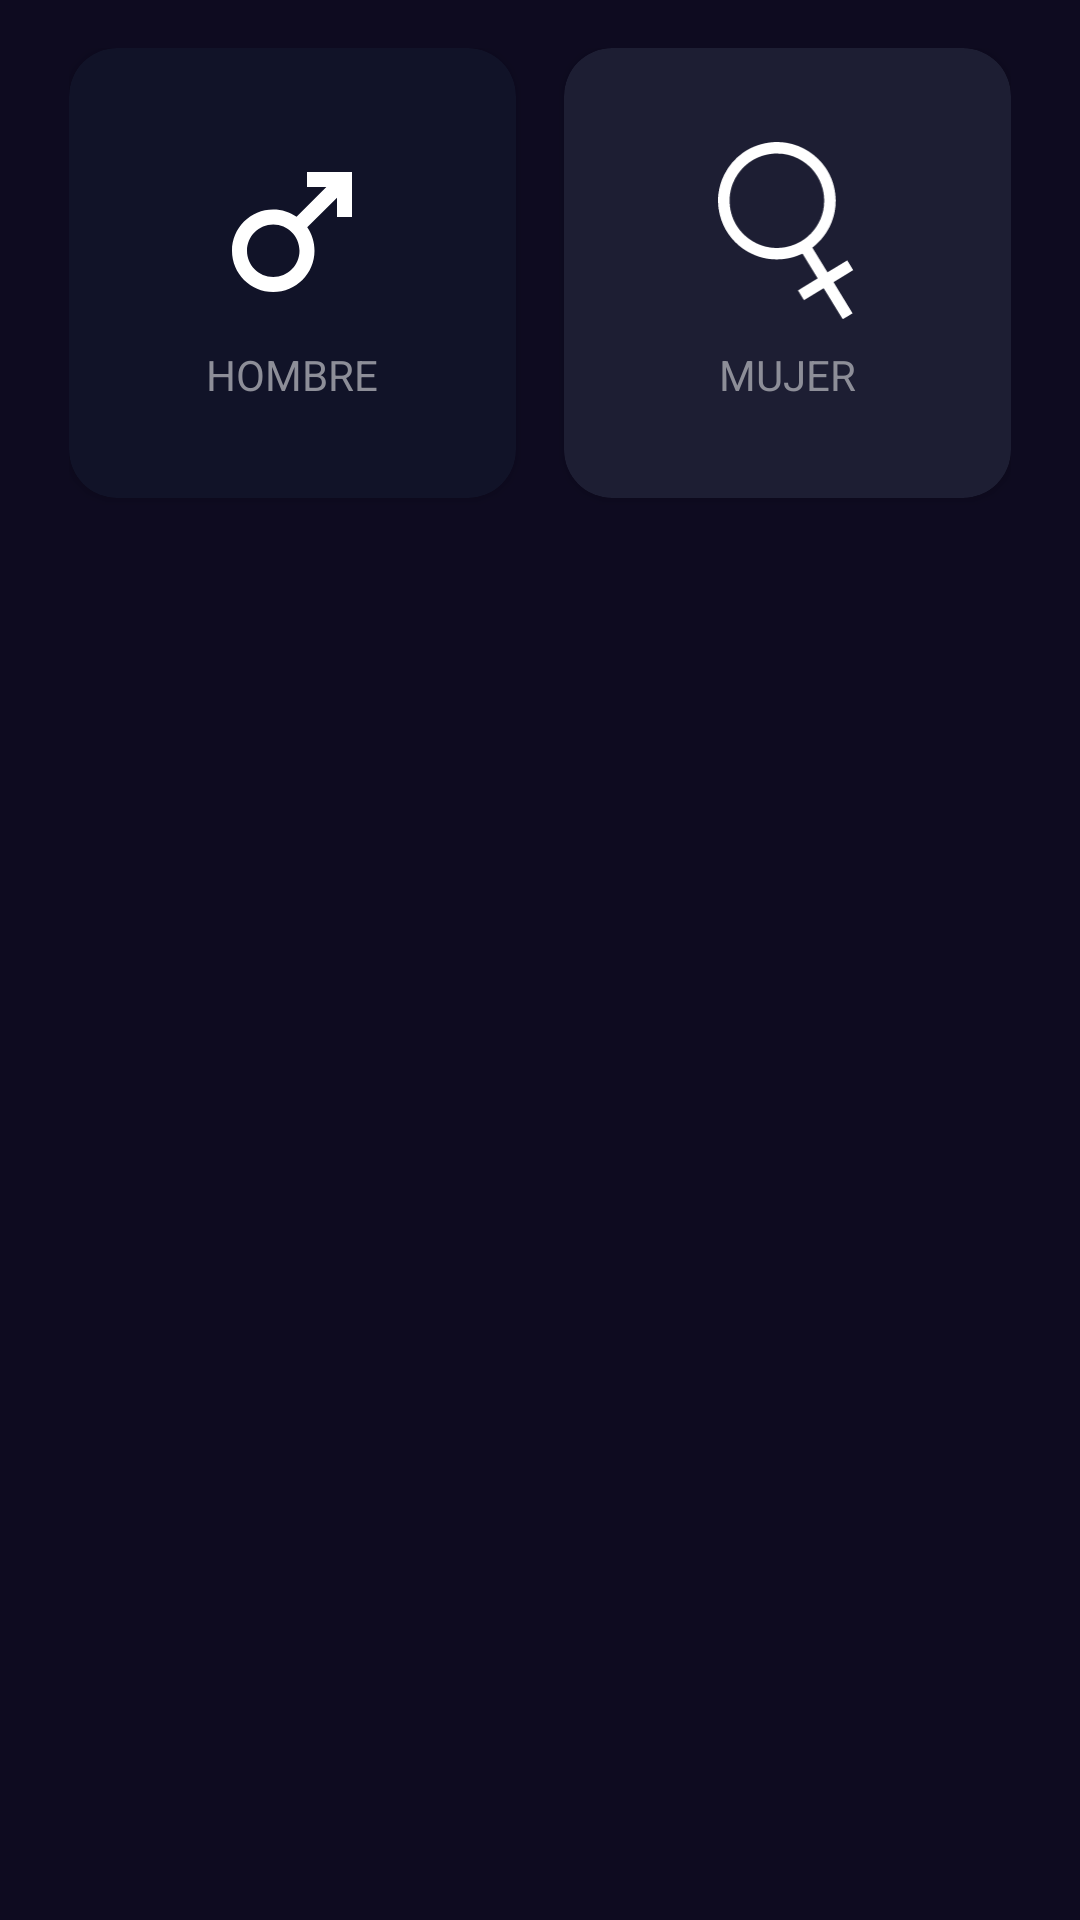

Named icons in this screenshot (1080 × 1920) and their bounding boxes, bbox=(x1, y1, x2, y2):
male: bbox=(232, 172, 352, 292)
